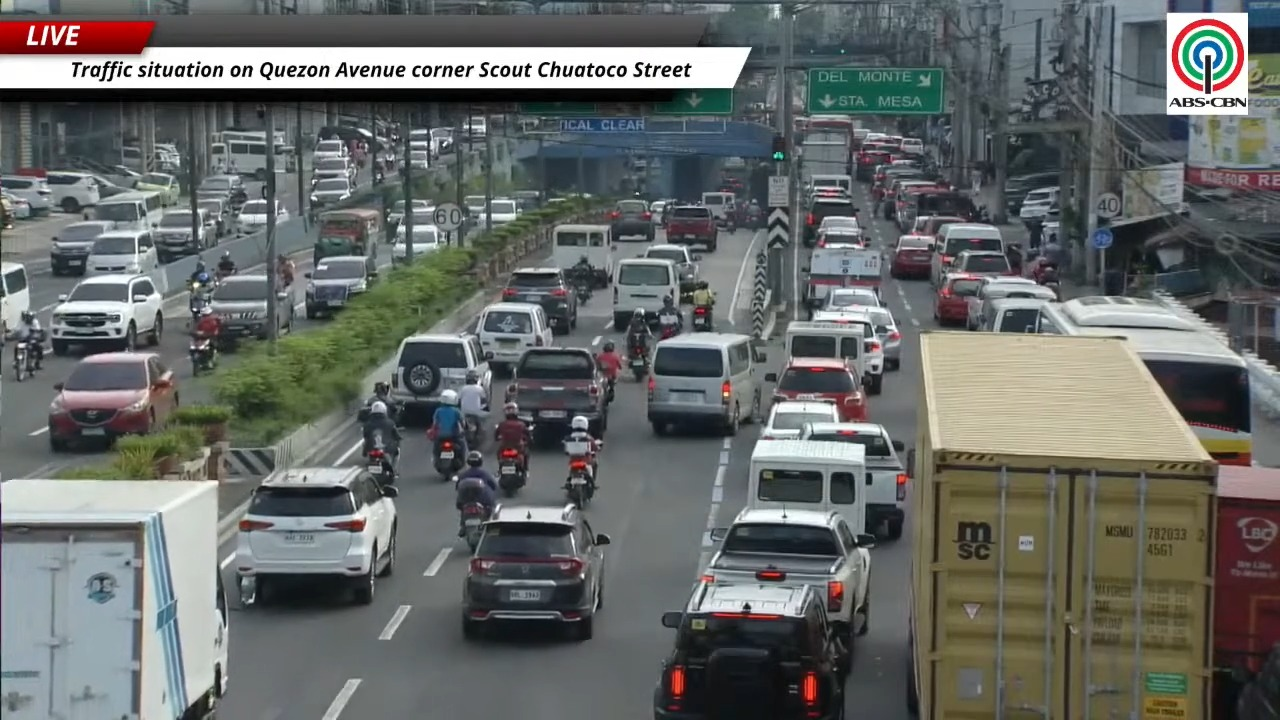bus: (1036, 296, 1252, 465), (91, 191, 165, 230), (210, 132, 266, 180), (806, 115, 855, 137), (210, 129, 265, 143)
car: (701, 503, 875, 671), (654, 580, 847, 719), (234, 465, 397, 604), (462, 504, 610, 639), (800, 423, 912, 539), (48, 352, 178, 451), (49, 274, 163, 355), (390, 333, 491, 417), (765, 358, 867, 421), (812, 306, 885, 394), (477, 302, 552, 371), (502, 267, 577, 334), (930, 223, 1005, 287), (208, 273, 271, 349), (967, 276, 1055, 329), (304, 257, 378, 318), (50, 220, 113, 275), (153, 208, 215, 263), (86, 229, 159, 274), (760, 400, 839, 439), (642, 244, 701, 293), (803, 195, 858, 246), (883, 178, 936, 230), (933, 272, 981, 324), (664, 204, 717, 251), (45, 171, 100, 212), (865, 307, 901, 369), (391, 223, 443, 265), (0, 175, 51, 216), (890, 234, 933, 278), (609, 199, 654, 241), (871, 165, 922, 200), (196, 175, 247, 208), (952, 250, 1015, 276), (197, 197, 231, 244), (134, 172, 180, 206), (1019, 186, 1060, 223), (387, 199, 432, 231), (821, 287, 881, 310), (913, 215, 966, 241), (854, 143, 890, 181), (311, 157, 356, 185), (311, 177, 353, 207), (235, 199, 268, 235), (815, 226, 865, 248), (483, 198, 520, 226), (0, 192, 31, 222), (312, 139, 348, 164), (818, 215, 860, 233), (409, 143, 431, 171), (463, 195, 486, 221), (649, 200, 667, 225), (900, 137, 923, 155)
motorcycle: (564, 439, 596, 508), (565, 457, 593, 508), (498, 447, 526, 497), (460, 502, 486, 552), (433, 439, 464, 480), (366, 442, 395, 484), (357, 397, 400, 423), (189, 337, 217, 376), (188, 281, 213, 322), (13, 341, 34, 381), (628, 343, 647, 381), (658, 311, 682, 339), (464, 415, 481, 447), (573, 277, 592, 303), (692, 306, 711, 331), (746, 206, 764, 229), (659, 322, 679, 339), (215, 268, 235, 282), (605, 376, 615, 402)
truck: (906, 331, 1217, 719), (0, 479, 228, 719), (700, 507, 874, 672), (1212, 465, 1279, 719), (505, 348, 608, 442), (802, 245, 882, 308), (665, 205, 717, 251)
